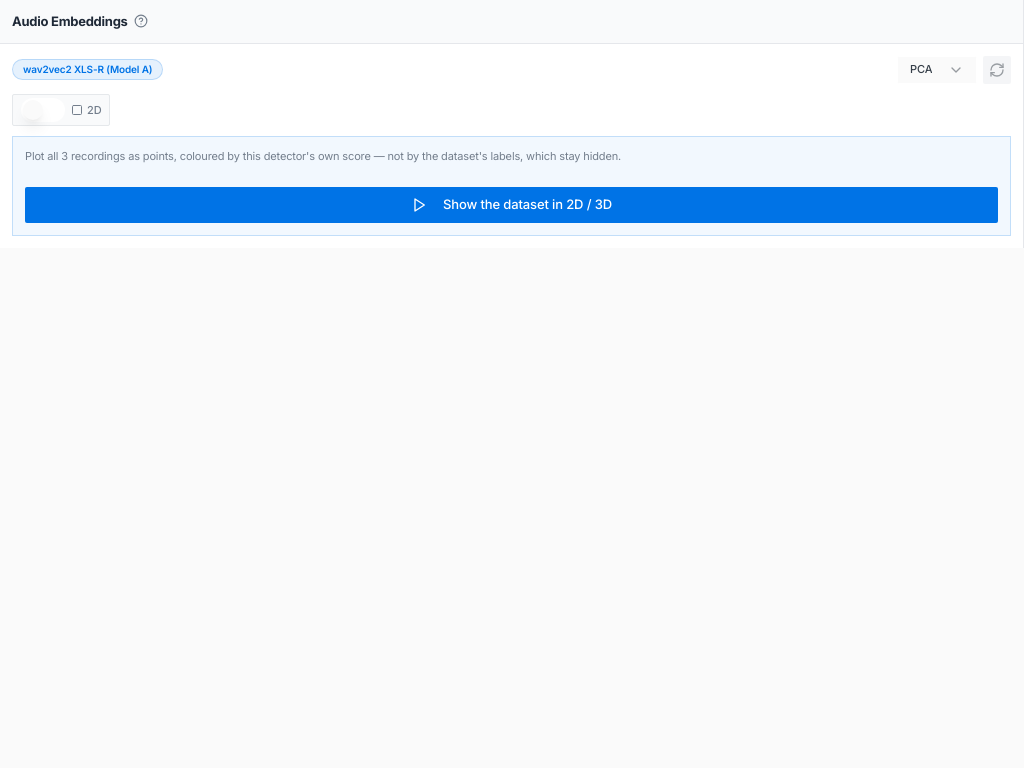
Test: DeepfakeEmbeddingPanel › says so when the reducer had to fall back to another method
Click the button "Show the dataset in 2D / 3D" at (512, 205), box [25,187,998,223]
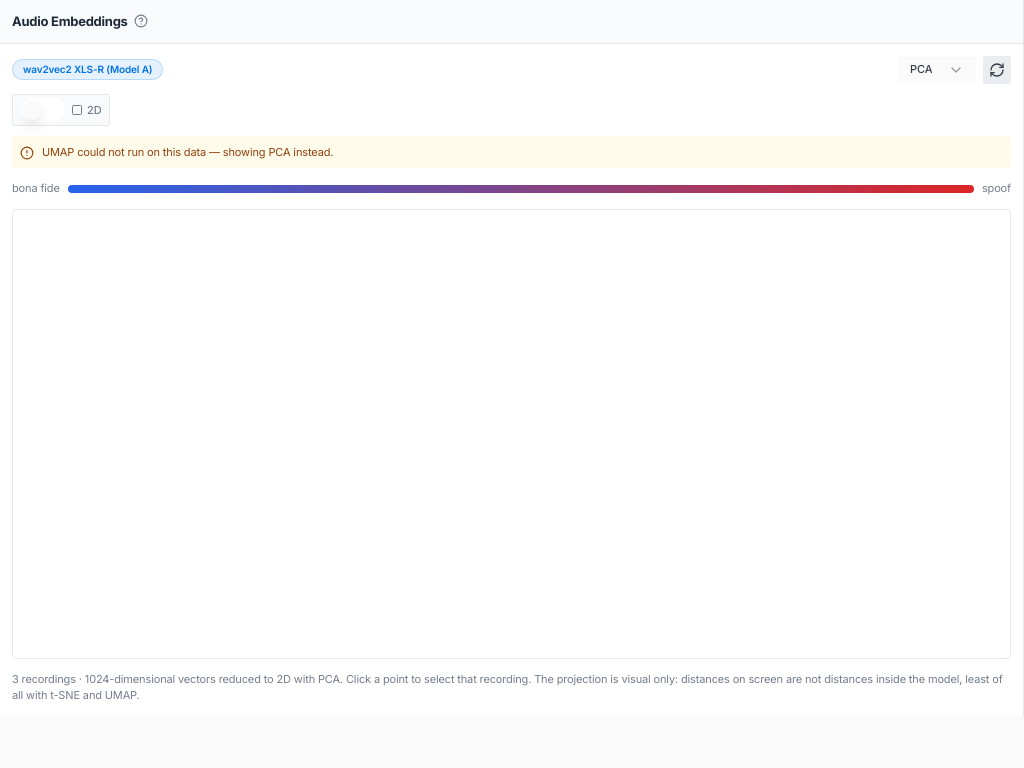
Expected: the text "UMAP could not run on this data — showing PCA instead." is shown, [42,144,333,160]
